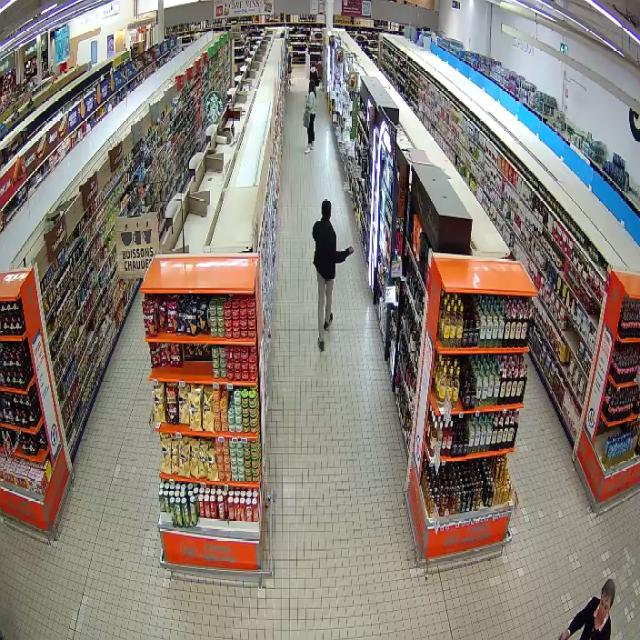bags: (303, 107, 309, 127)
hands: (560, 630, 569, 639), (349, 246, 353, 254)
person: (313, 199, 353, 350), (559, 579, 615, 639), (304, 79, 315, 152)
